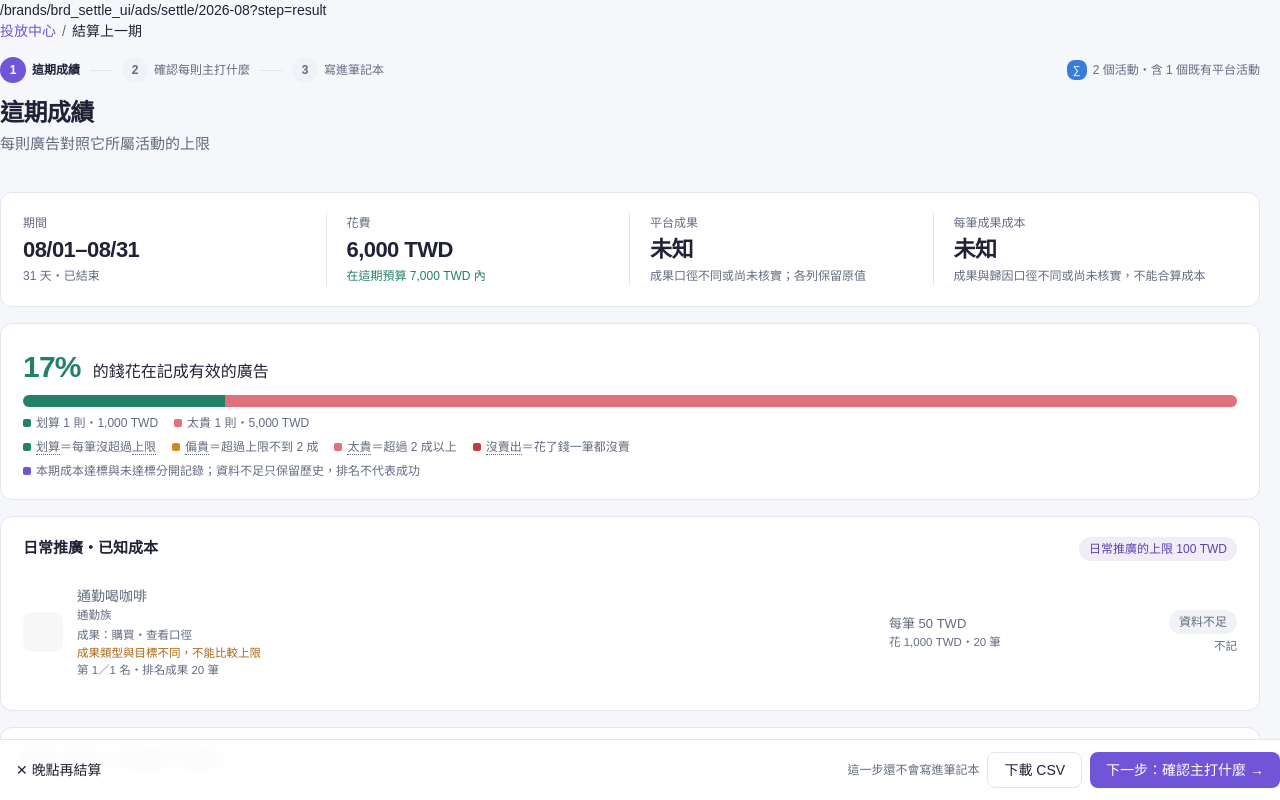
it: completed-period source navigation › preserves raw per-row purchase CPA while refusing a lead target comparison
The image size is (1280, 800).
Check: the text "每筆 50 TWD" is shown, box [889, 616, 966, 631]
Check: the text "成果類型與目標不同，不能比較上限" is shown, box [77, 647, 261, 659]
Click the button "成果：購買・查看口徑" at (134, 635), box [77, 627, 192, 644]
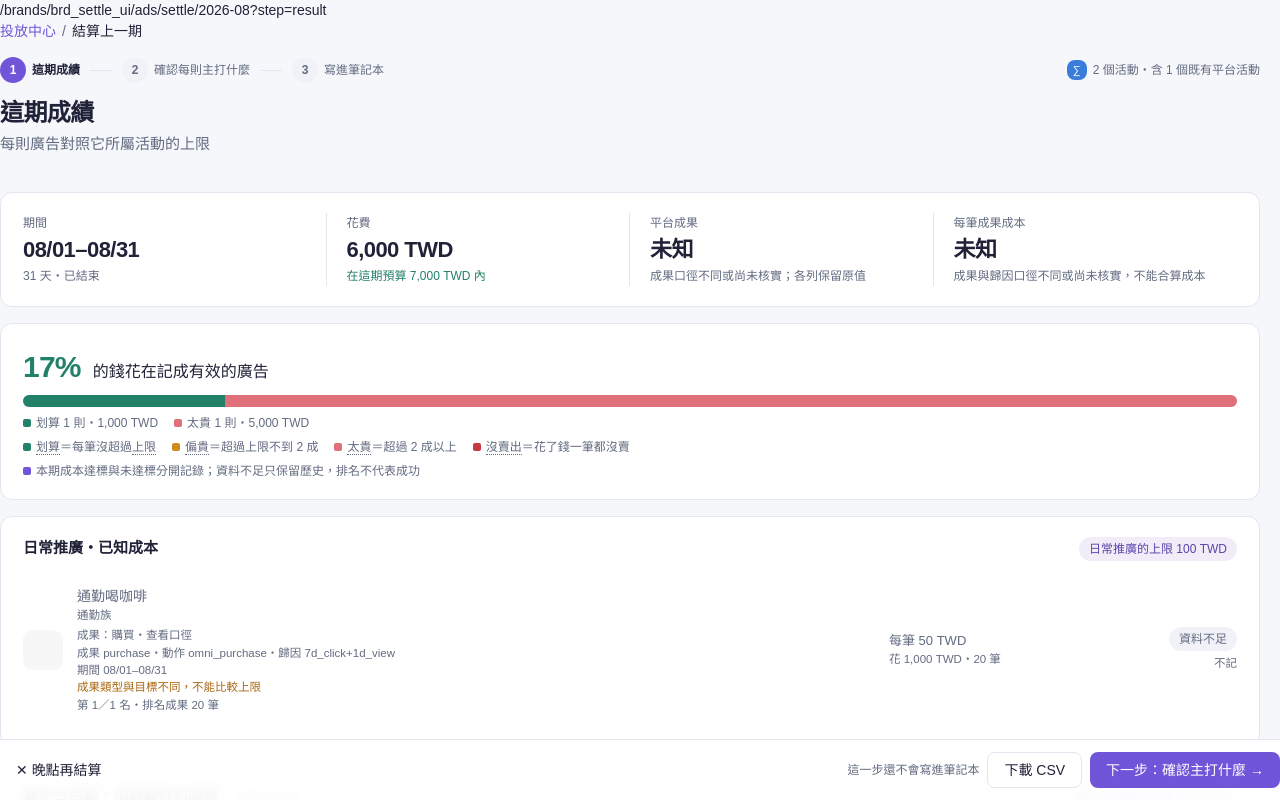
Check: the text "未知" is shown 2 times, box [650, 236, 693, 262]; [954, 236, 996, 262]
Check: the element "日常推廣・已知成本" shows "成果 purchase・動作 omni_purchase・歸因 7d_click+1d_view", box [0, 516, 1260, 746]
